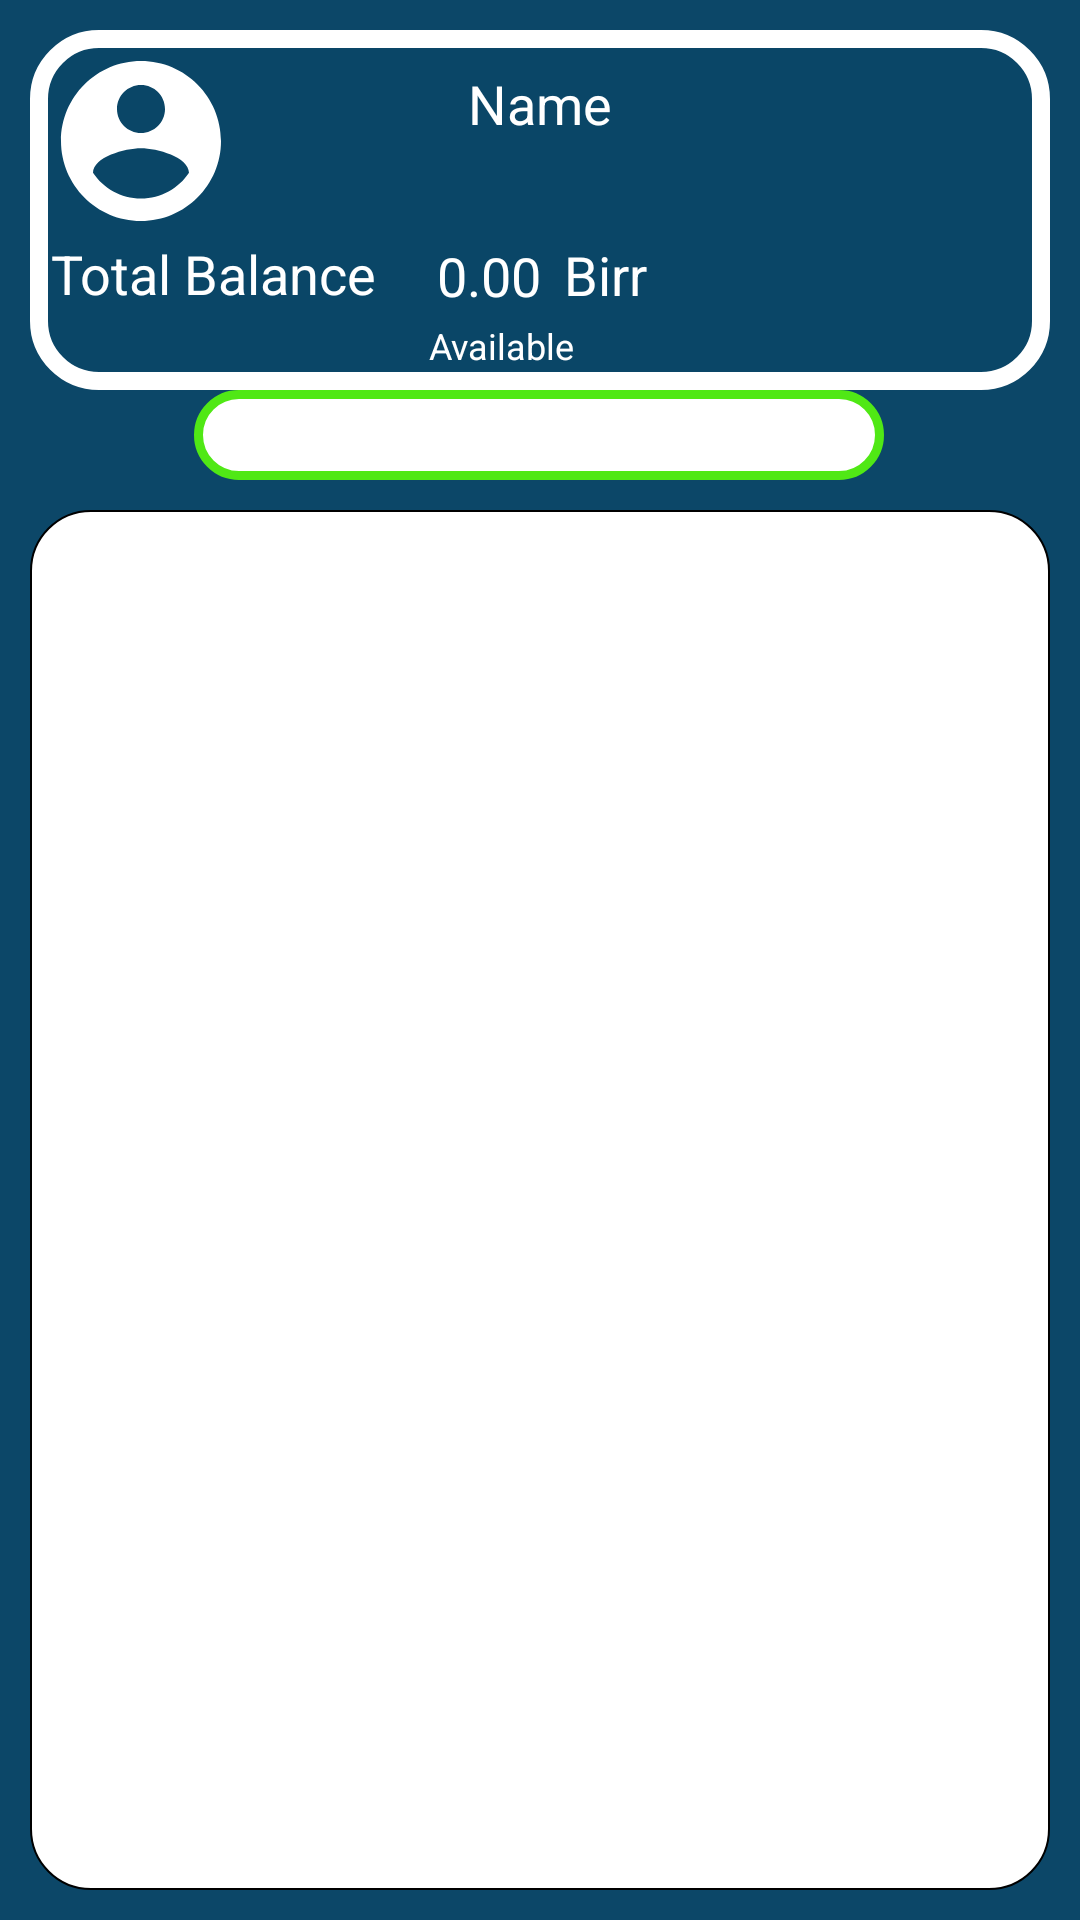

Icon click points for this 1080w x 1920h phone screenshot, format point (x, y):
profile: point (141, 141)
